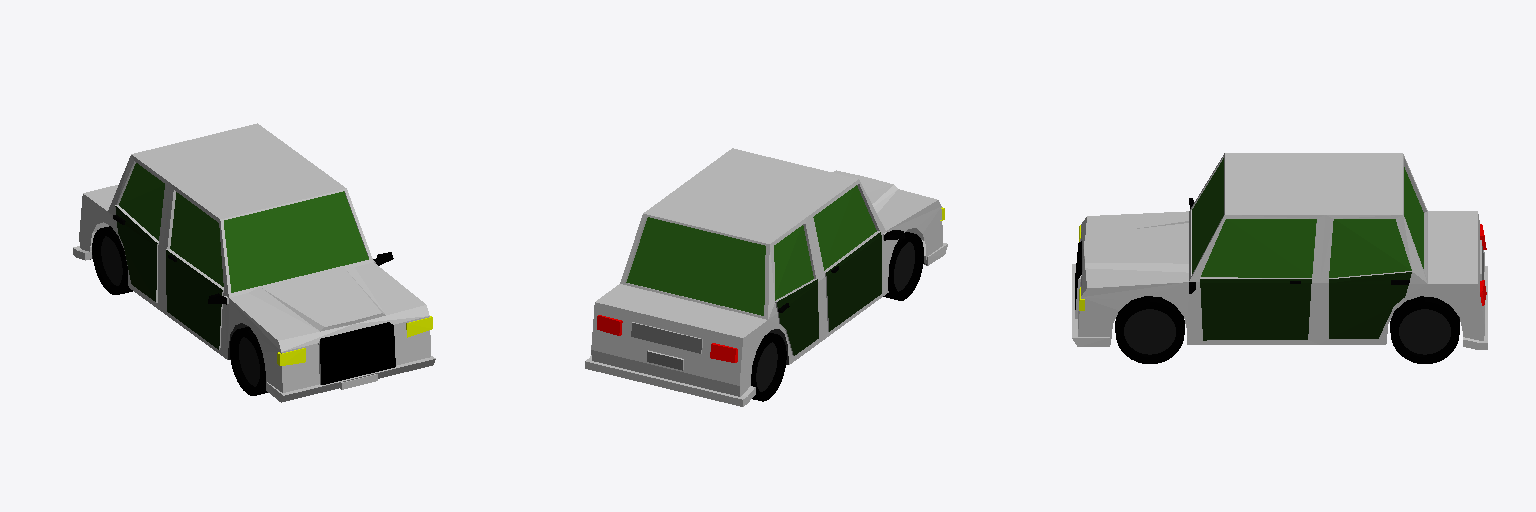
Rendered from Player.obj.
3 renders of one model, left to right at view 1: azimuth 30°, elevation 25°; view 2: azimuth 150°, elevation 25°; view 3: azimuth 270°, elevation 25°, orthographic.
Parts seen in each view (by area): view 1: SimpleCar_Body_Tire_FR; view 2: SimpleCar_Body_Tire_FR; view 3: SimpleCar_Body_Tire_FR.
Boxes of the visible parts, <box> form: SimpleCar_Body_Tire_FR: <box>73,123,435,402</box>; SimpleCar_Body_Tire_FR: <box>585,148,947,406</box>; SimpleCar_Body_Tire_FR: <box>1072,153,1487,363</box>.
Size of the model in its own units: 2.1 by 1.57 by 4.1.